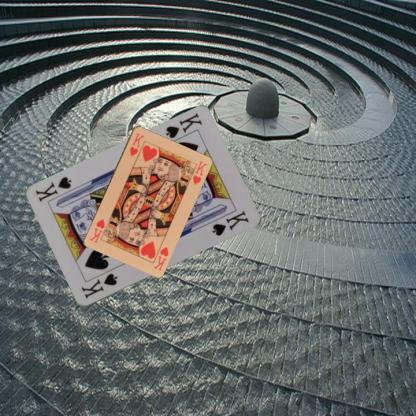Kh: (127, 130, 146, 157), (151, 244, 170, 271)
Ks: (163, 110, 203, 140), (78, 271, 118, 300)
